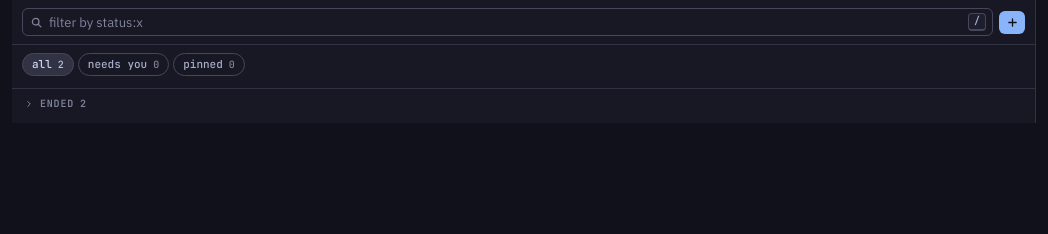
Test: every run of one schedule collapses to a single rail row with its run count
Click the button "ended 2".
click(57, 104)  # box [12,89,1035,115]
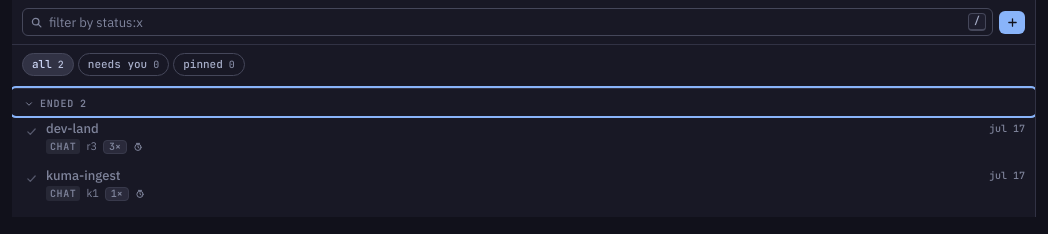
Check: the number of buttons with class "t-srow" is 2, box [12,115,1035,162]; [12,162,1035,209]
Check: the text named "3 runs" is shown, box [103,140,127,154]
Check: the text named "1 run" is shown, box [105,187,129,201]
